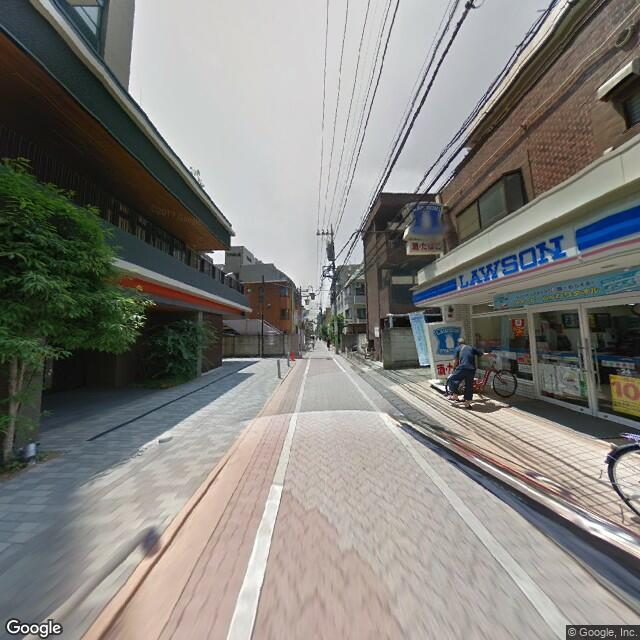lawson: (412, 196, 637, 308), (408, 196, 444, 240), (429, 320, 463, 360)
